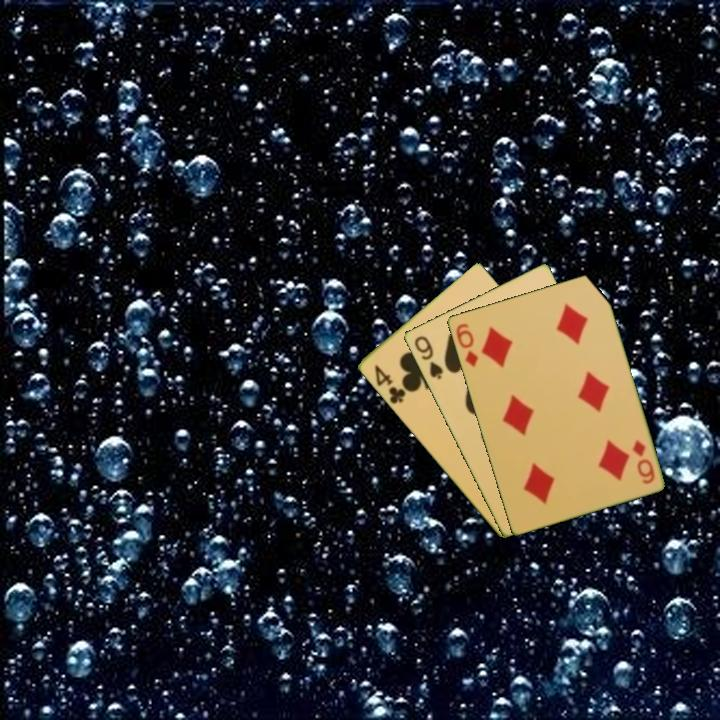4c: (370, 361, 410, 407)
6d: (452, 319, 481, 370), (628, 436, 657, 487)
9s: (410, 332, 446, 382)
